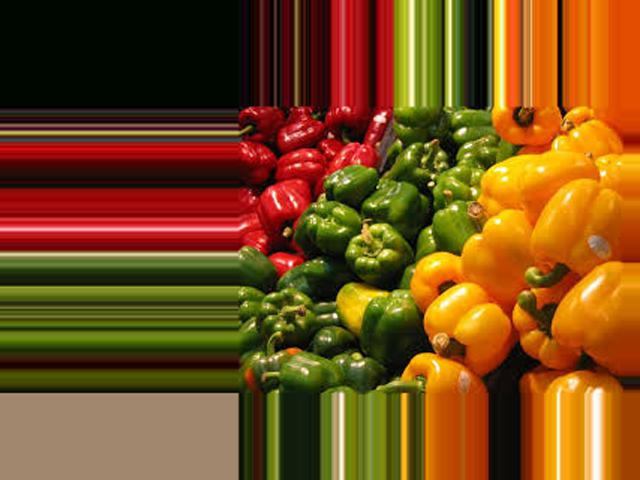bell_pepper: (238, 346, 306, 396)
